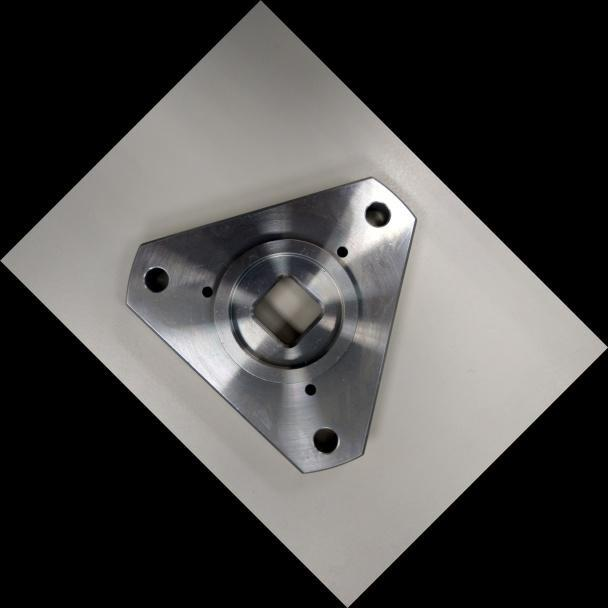hole: (302, 416, 350, 464), (355, 190, 402, 237), (134, 257, 180, 304), (296, 376, 322, 402), (195, 281, 217, 303), (331, 241, 352, 262)
